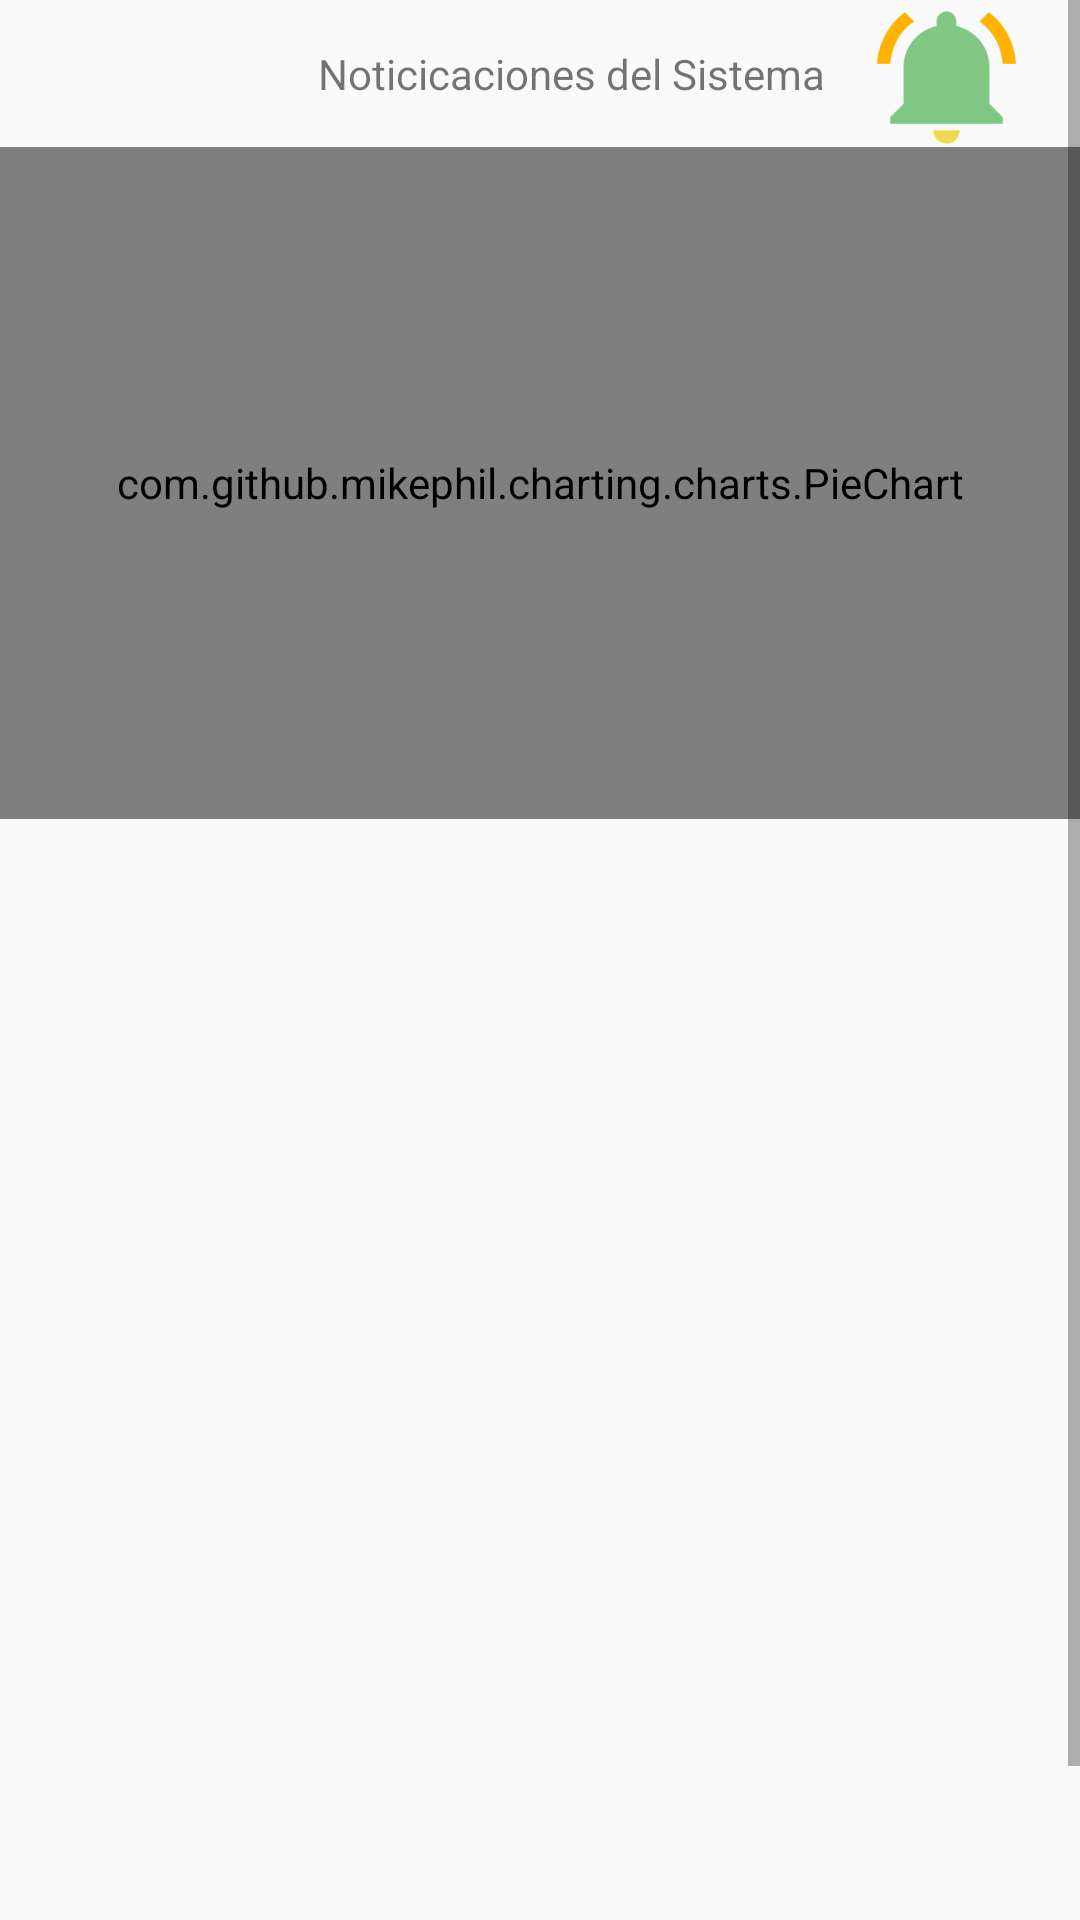

Point at icon controls on the screen. Image size 1080px×1920px, points as [x,y].
notificaciones: [946,77]
